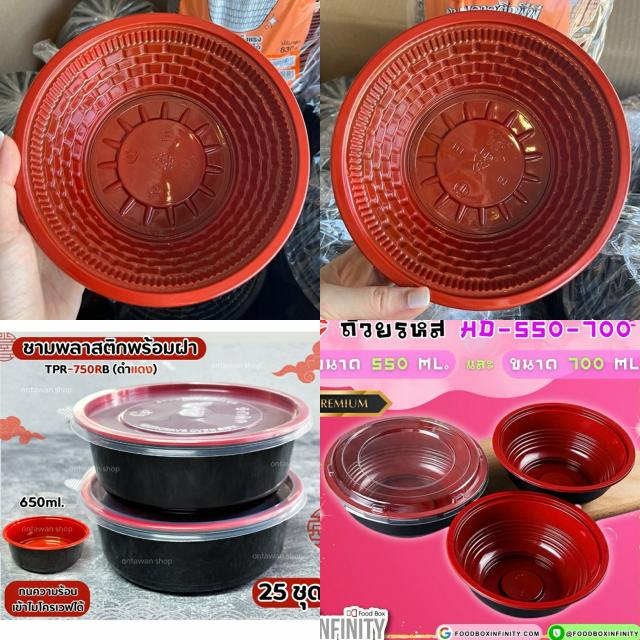Single-Use-Plastic: (331, 11, 630, 310), (14, 14, 309, 308), (71, 382, 312, 509), (79, 469, 306, 594), (448, 491, 609, 618), (324, 418, 488, 538), (492, 404, 635, 503)
